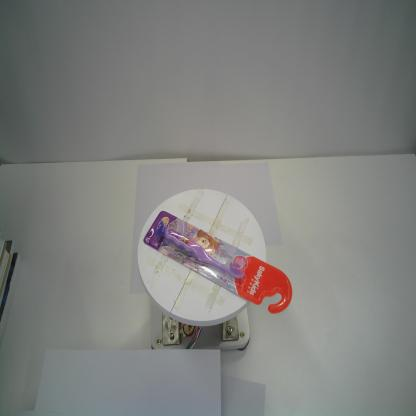Personal Hygiene: (143, 209, 293, 314)
